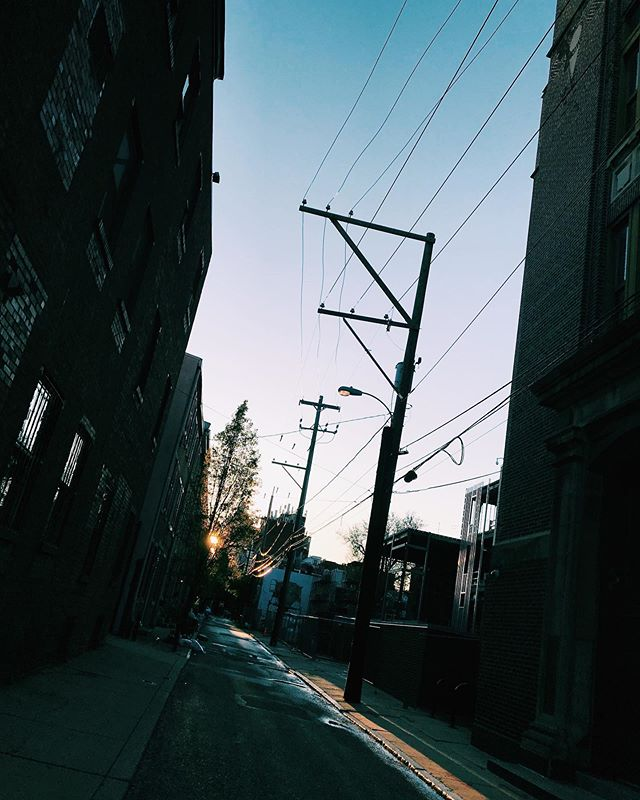building: (1, 1, 242, 741), (468, 1, 640, 796)
power pole: (289, 180, 398, 753)
sky: (219, 1, 530, 525)
